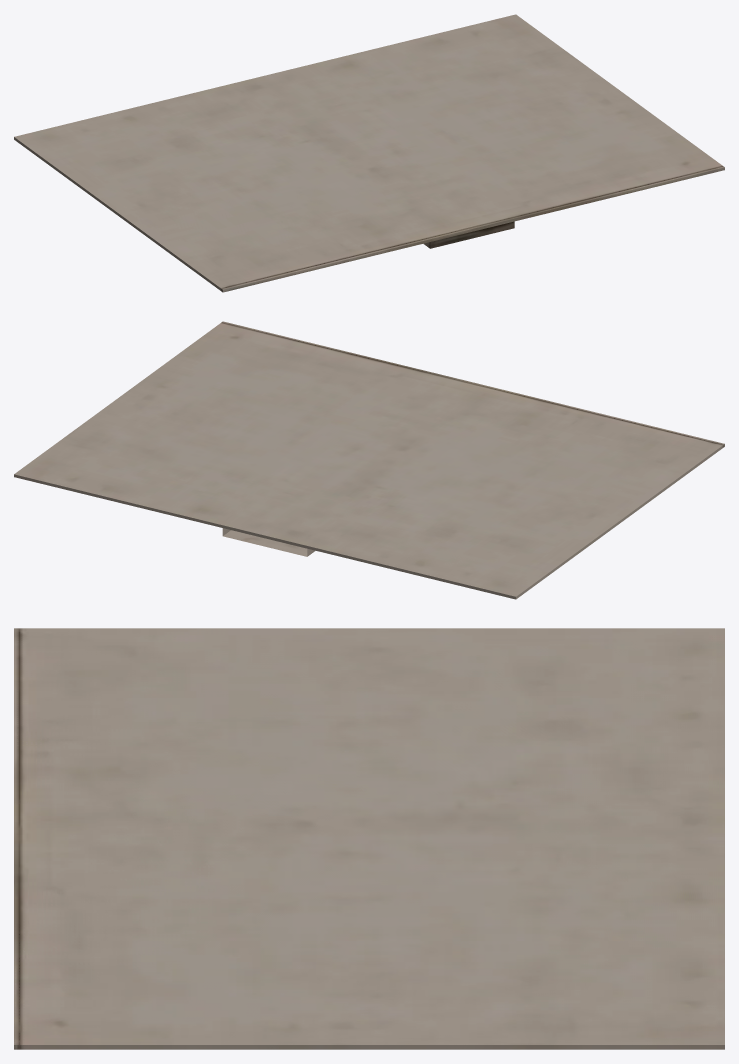
Rendered from link_1__drawer_bottom-141.glb.
The picture shows the model from 3 angles, top to bottom: view 1: azimuth 30°, elevation 25°; view 2: azimuth 150°, elevation 25°; view 3: azimuth 270°, elevation 25°; orthographic projection. The views are drawn at different scales.
Parts seen in each view (by area): view 1: geometry_0; view 2: geometry_0; view 3: geometry_0.
Part boxes in pixels (x1,y1,x2,y2): geometry_0: (14,14,724,292); geometry_0: (14,321,724,599); geometry_0: (14,628,724,1049).
Bounding box in the file's own units: 0.4989 × 0.0105 × 0.3597.
1 material, 1 textured.
